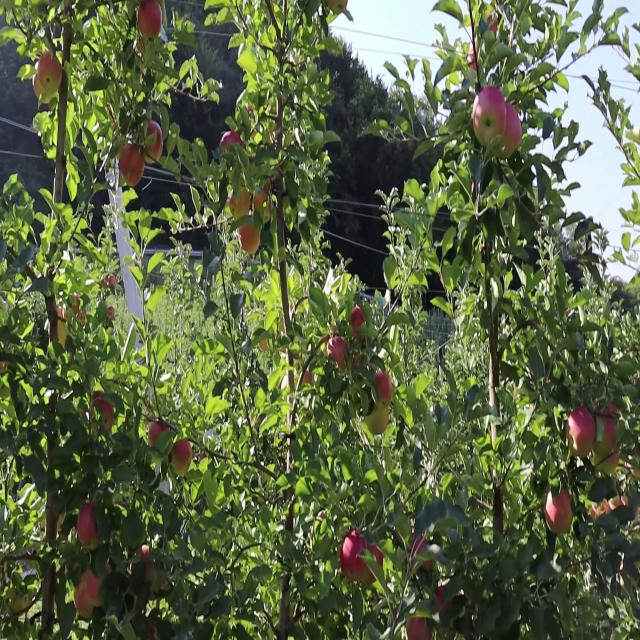apple: (472, 86, 506, 144), (546, 485, 574, 537), (566, 406, 594, 457), (340, 528, 367, 580), (119, 140, 145, 188), (76, 505, 102, 550), (86, 564, 112, 607), (137, 0, 163, 40), (594, 407, 617, 452), (90, 391, 114, 434), (505, 102, 522, 162), (38, 50, 62, 92), (219, 129, 243, 166), (366, 401, 390, 436), (74, 576, 93, 620), (228, 185, 251, 219), (171, 438, 192, 475), (252, 188, 274, 223), (238, 222, 262, 253), (142, 119, 162, 154), (148, 417, 167, 453), (374, 370, 393, 402), (327, 338, 347, 364), (350, 307, 366, 336)
